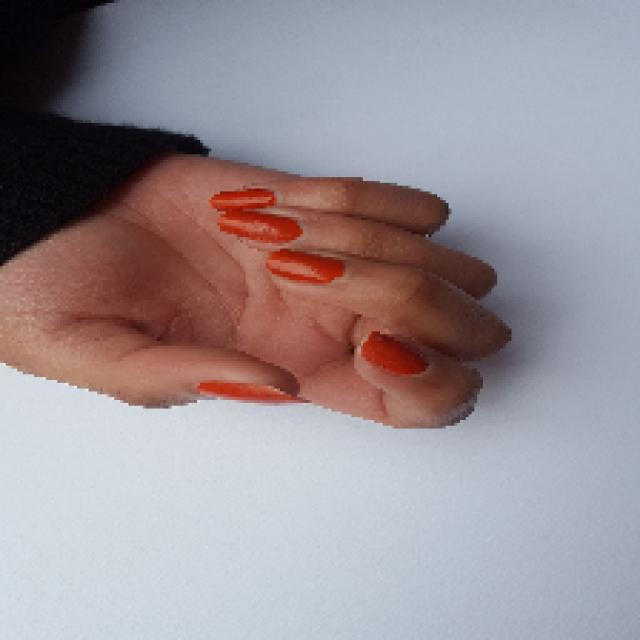Nail: (359, 331, 429, 375), (266, 249, 346, 284), (219, 210, 300, 243), (196, 381, 299, 402), (210, 189, 276, 211)
